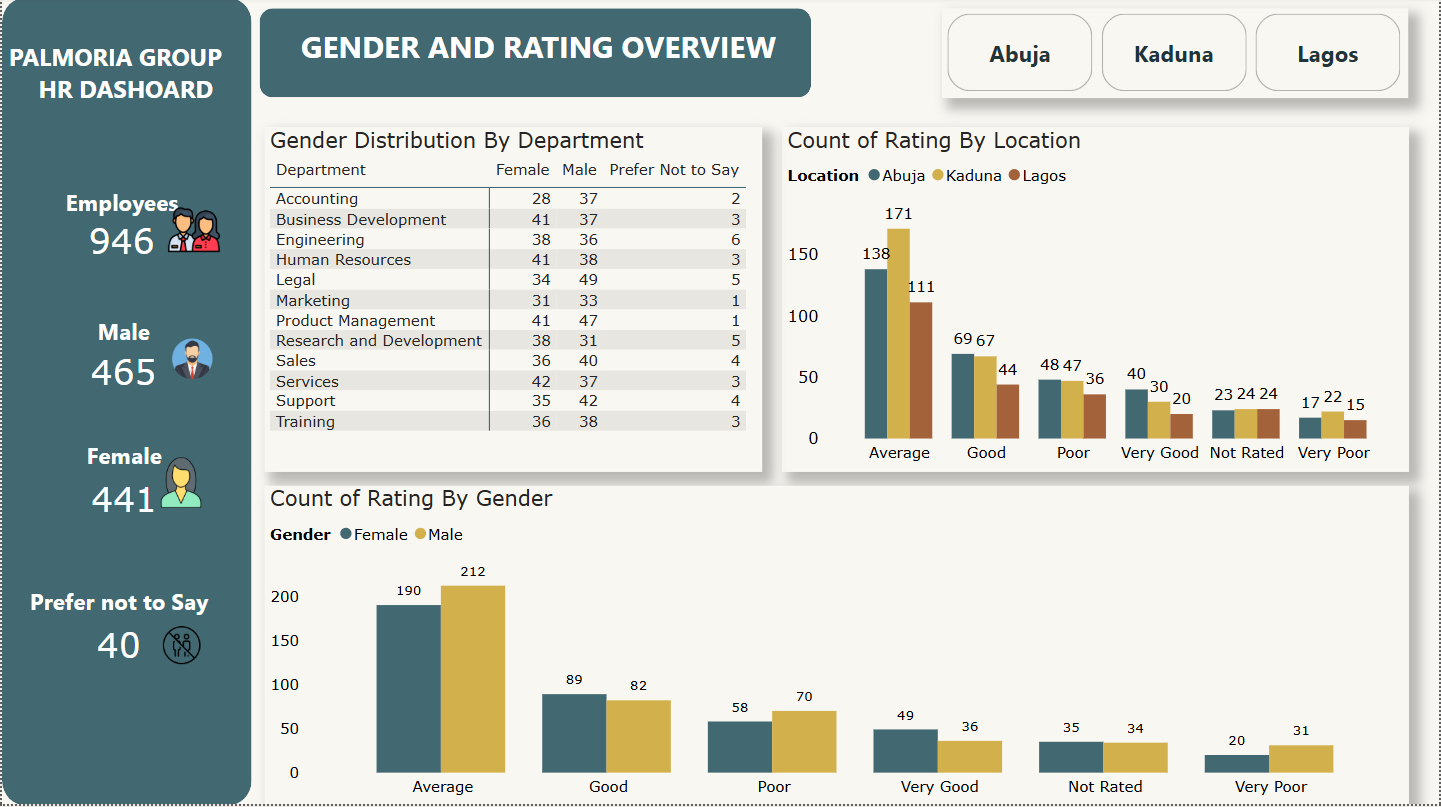

What the dashboard file says about the page in this screenshot:
{"tool":"powerbi","page":{"name":"Gender and Rating","canvas":[1280,720],"ordinal":0},"visuals":[{"type":"shape","box":[0,0,222.3,720.4],"z":0},{"type":"card","title":"Employees","fields":{"Values":["Palmoria Group emp-data.Total Employees"]},"box":[6.9,168.8,200.3,71.4],"z":1000},{"type":"clusteredColumnChart","title":"Count of Rating By Location","fields":{"Series":["Palmoria Group emp-data.Location"],"Category":["Palmoria Group emp-data.Rating"],"Y":["CountNonNull(Palmoria Group emp-data.RatingScore)"]},"box":[694.3,115.3,558.5,307.4],"z":2000},{"type":"image","box":[141.3,179.8,59,56.3],"z":3000},{"type":"pivotTable","title":"Gender Distribution By Department","fields":{"Rows":["Palmoria Group emp-data.Department"],"Columns":["Palmoria Group emp-data.Gender"],"Values":["CountNonNull(Palmoria Group emp-data.Name)"]},"box":[233.3,115.3,443.2,307.4],"z":4000},{"type":"advancedSlicerVisual","fields":{"Values":["Palmoria Group emp-data.Location"]},"box":[836.9,9.5,415.5,79.8],"z":5000},{"type":"shape","box":[229.2,9.6,491.3,79.6],"z":6000},{"type":"clusteredColumnChart","title":"Count of Rating By Gender","fields":{"Category":["Palmoria Group emp-data.Rating"],"Series":["Palmoria Group emp-data.Gender"],"Y":["CountNonNull(Palmoria Group emp-data.Rating)"]},"box":[233.3,435,1019.6,285.4],"z":7000},{"type":"textbox","box":[245.2,21.4,458.3,53.6],"z":8000},{"type":"card","title":"Female","fields":{"Values":["CountNonNull(Palmoria Group emp-data.Gender)"]},"box":[6.9,393.8,204.5,81],"z":9000},{"type":"card","title":"Male","fields":{"Values":["CountNonNull(Palmoria Group emp-data.Gender)"]},"box":[5.5,284,205.8,75.5],"z":10000},{"type":"image","box":[139.9,299.2,59.1,45.8],"z":11000},{"type":"card","title":"Prefer not to Say","fields":{"Values":["CountNonNull(Palmoria Group emp-data.Gender)"]},"box":[5.5,524.2,197.6,79.6],"z":12000},{"type":"textbox","box":[1.4,32.9,218.2,89.2],"z":13000},{"type":"image","box":[127.6,553,64.5,48],"z":14000},{"type":"image","box":[130.3,405.4,59.1,54.3],"z":15000}]}

Visuals, with their boxes in screenshot pixels (x1, y1, x2, y2), scaled from the page's 1280x720 canvas onto the 1441x807 screenshot:
shape: 0,0,250,806
"Employees" card: 8,189,233,269
"Count of Rating By Location" clusteredColumnChart: 782,129,1410,474
image: 159,202,225,265
"Gender Distribution By Department" pivotTable: 263,129,762,474
advancedSlicerVisual - Palmoria Group emp-data.Location: 942,11,1410,100
shape: 258,11,811,100
"Count of Rating By Gender" clusteredColumnChart: 263,488,1410,806
textbox: 276,24,792,84
"Female" card: 8,441,238,532
"Male" card: 6,318,238,403
image: 157,335,224,387
"Prefer not to Say" card: 6,588,229,677
textbox: 2,37,247,137
image: 144,620,216,674
image: 147,454,213,515
